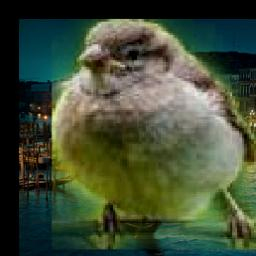Sparrow: (52, 19, 256, 249)
